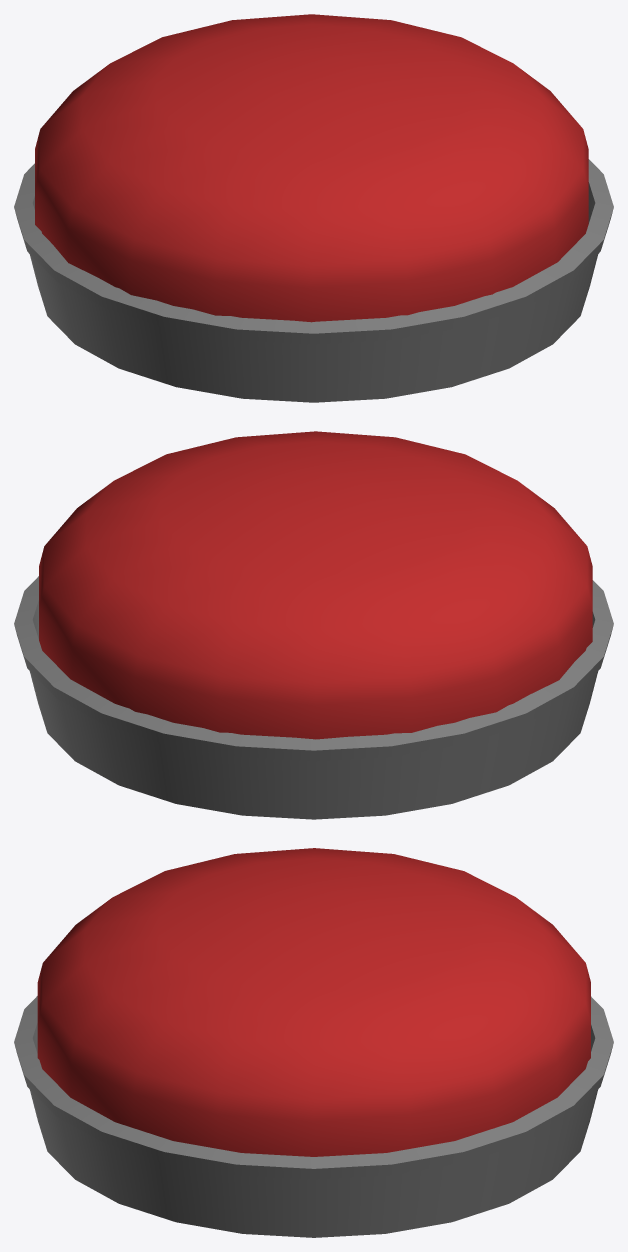
File: SM_spices_market_03.fbx
The picture shows the model from 3 angles, top to bottom: view 1: azimuth 30°, elevation 25°; view 2: azimuth 150°, elevation 25°; view 3: azimuth 270°, elevation 25°; orthographic projection.
Parts seen in each view (by area): view 1: Cylinder424331; view 2: Cylinder424331; view 3: Cylinder424331.
Part boxes in pixels (<box>): Cylinder424331: <box>14,14,613,402</box>; Cylinder424331: <box>14,431,613,819</box>; Cylinder424331: <box>14,848,613,1237</box>.
Size of the model in its own units: 38.32 by 14.63 by 38.32.
